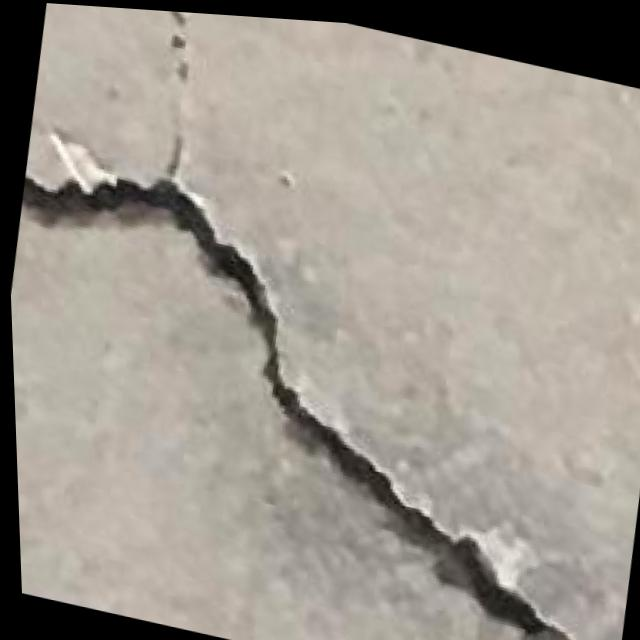Crack: (4, 146, 640, 640)
